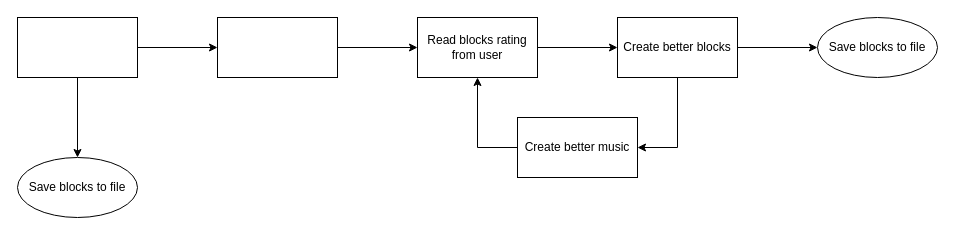
This 955x235 diagram has some shape labels left out. The shapes that lost their labels are listed below. From the top down, each one's box as (x1, y1, x2, y2) in pixels, then its label:
(16, 16, 138, 78): Create blocks
(216, 16, 338, 78): Make music from blocks
